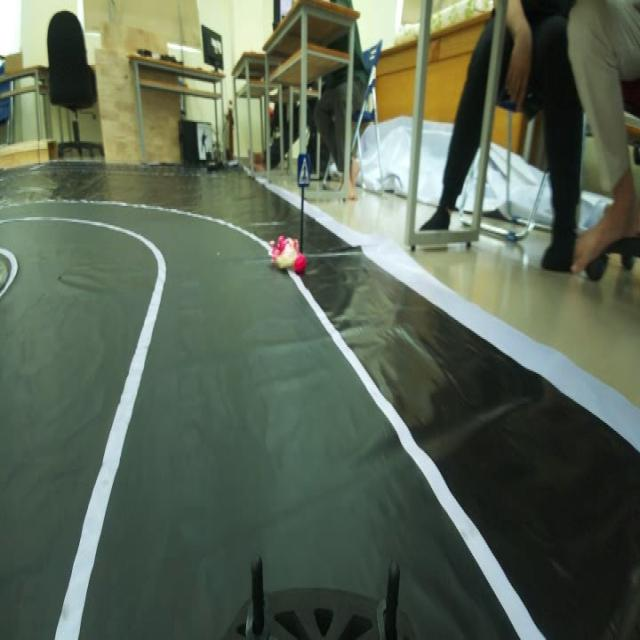crosswalk: (293, 141, 314, 198)
